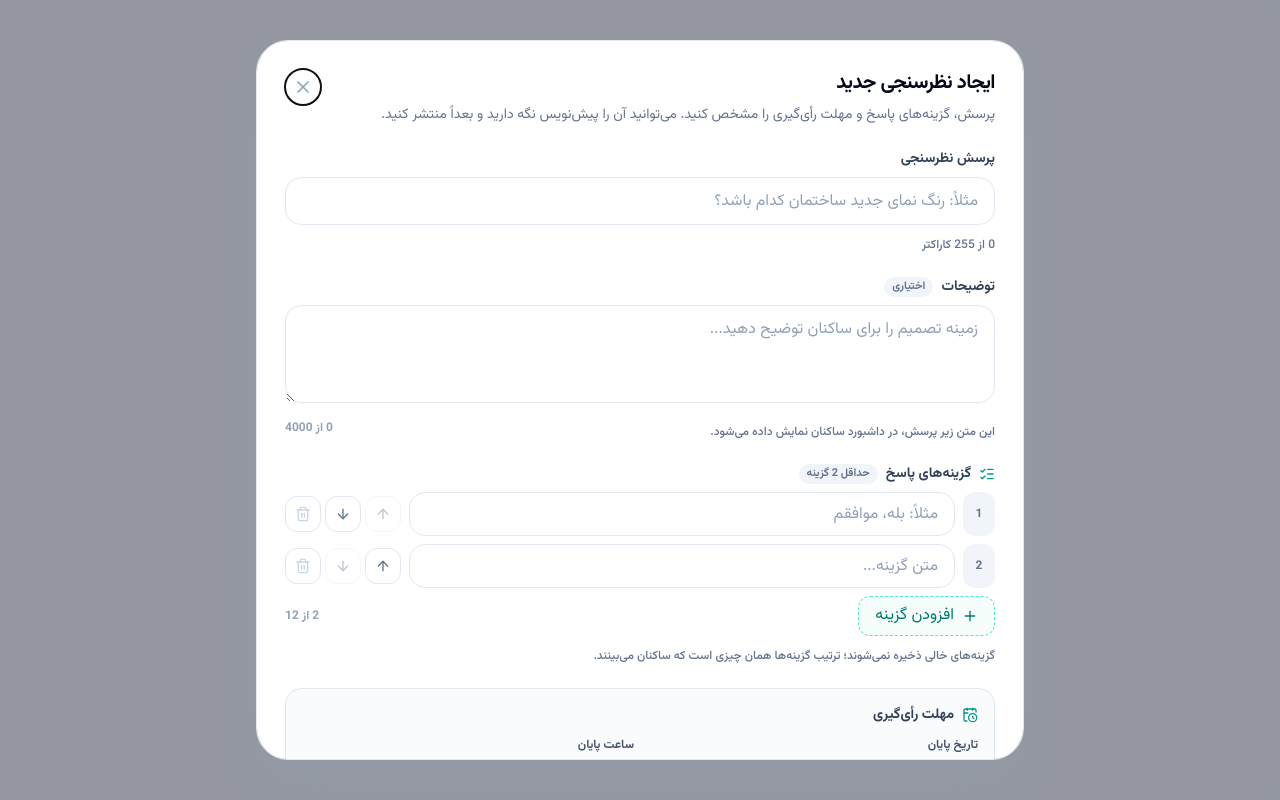
Test: PollFormModal › refuses two options with the same text
Type "آیا با بازسازی لابی موافقید؟" into the field labelled "پرسش نظرسنجی 0 از 255 کاراکتر".
click(640, 201); type("آیا با بازسازی لابی موافقید؟")  # box [285,177,995,225]
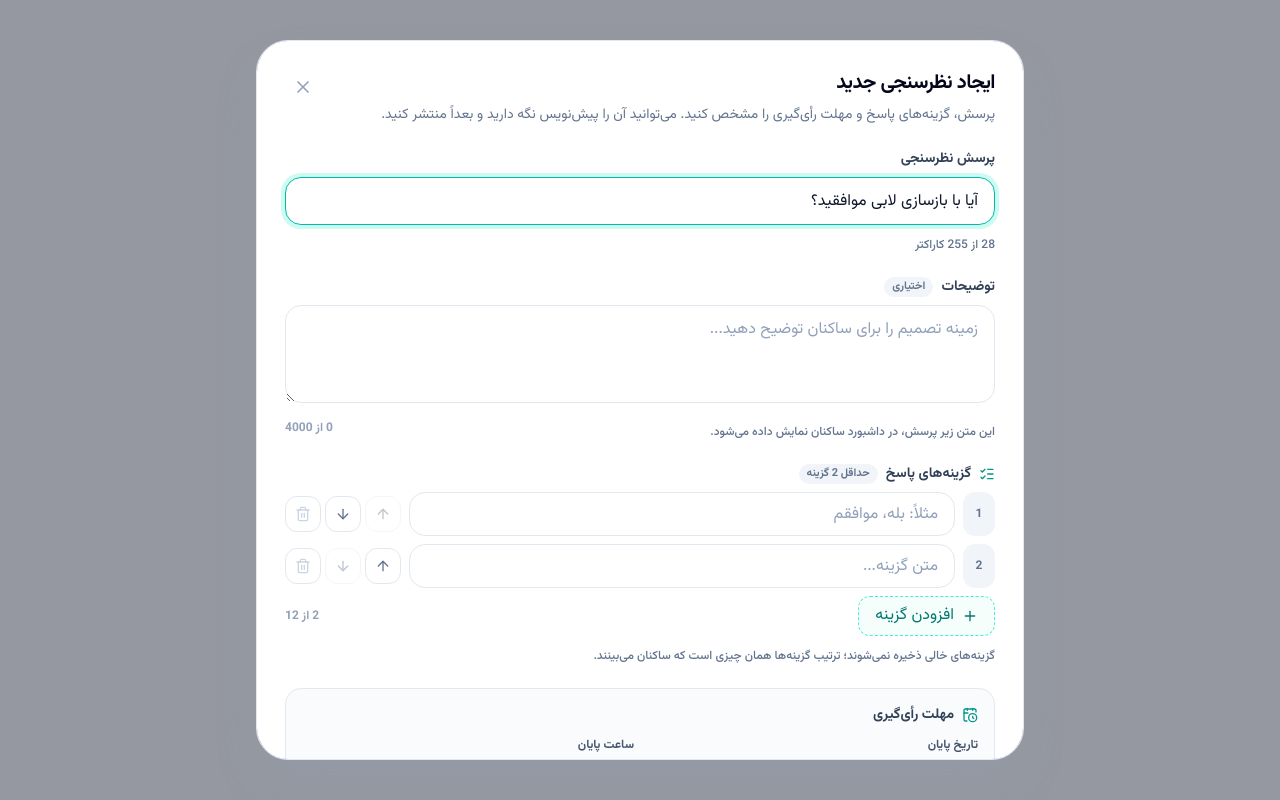
Type "بله" into the field named "گزینه 1".
click(682, 514); type("بله")  # box [409,492,955,536]
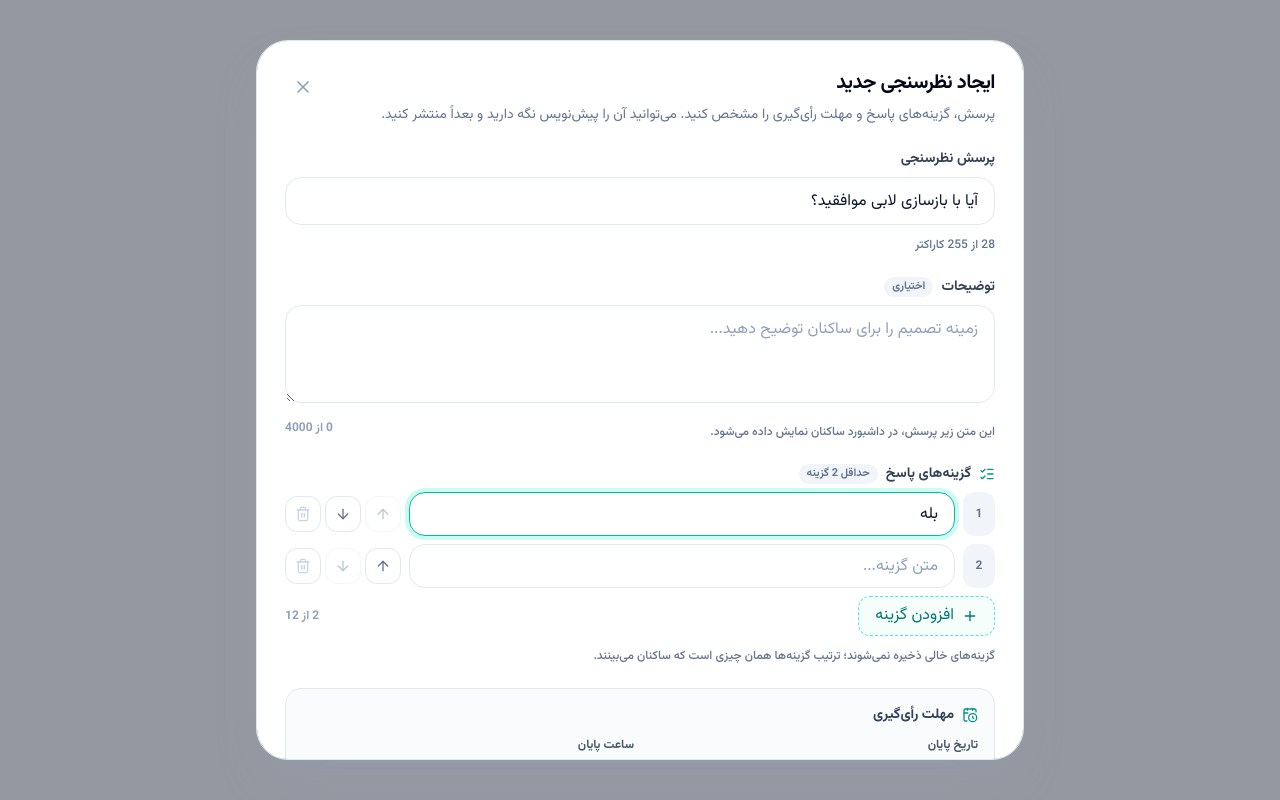
Type "بله" into the field named "گزینه 2".
click(682, 566); type("بله")  # box [409,544,955,588]
(page scrolled)
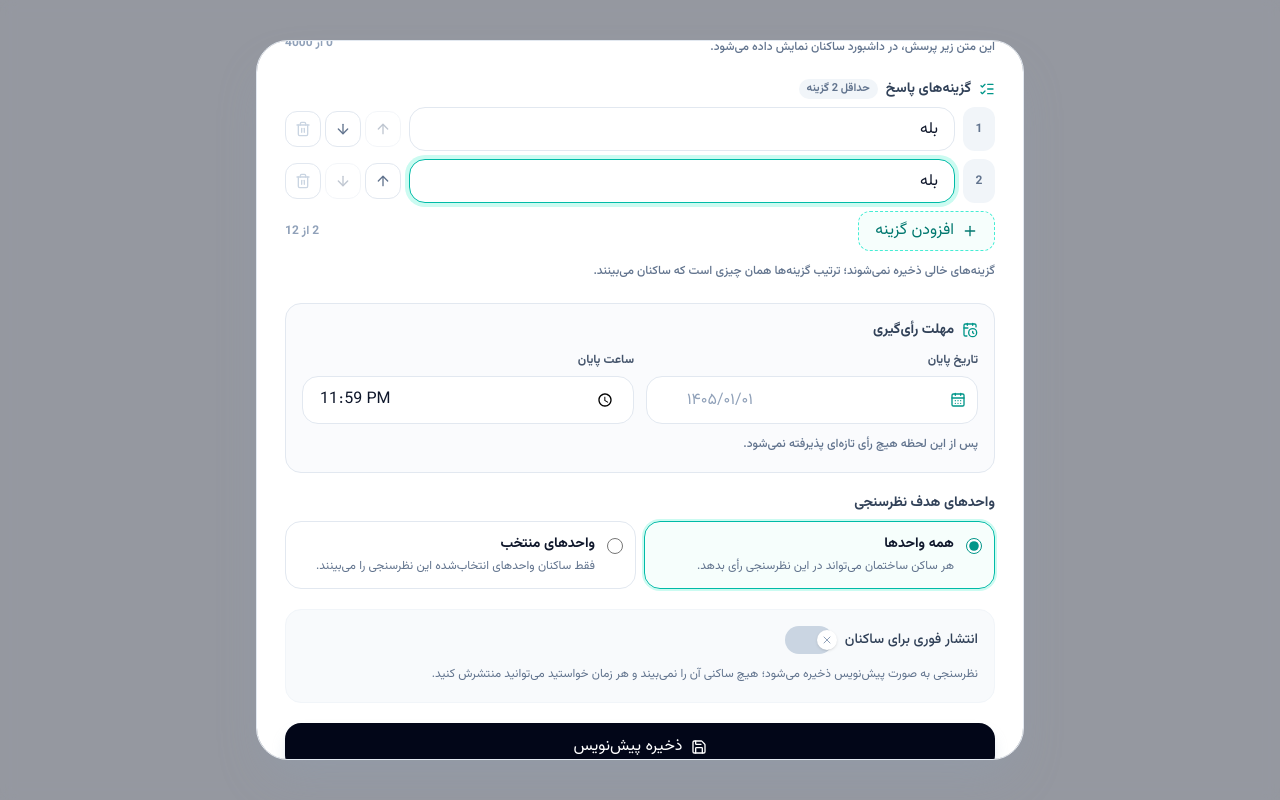
Type "1405/06/05" into the field labelled "تاریخ پایان".
click(812, 400); type("1405/06/05")  # box [646,376,978,424]
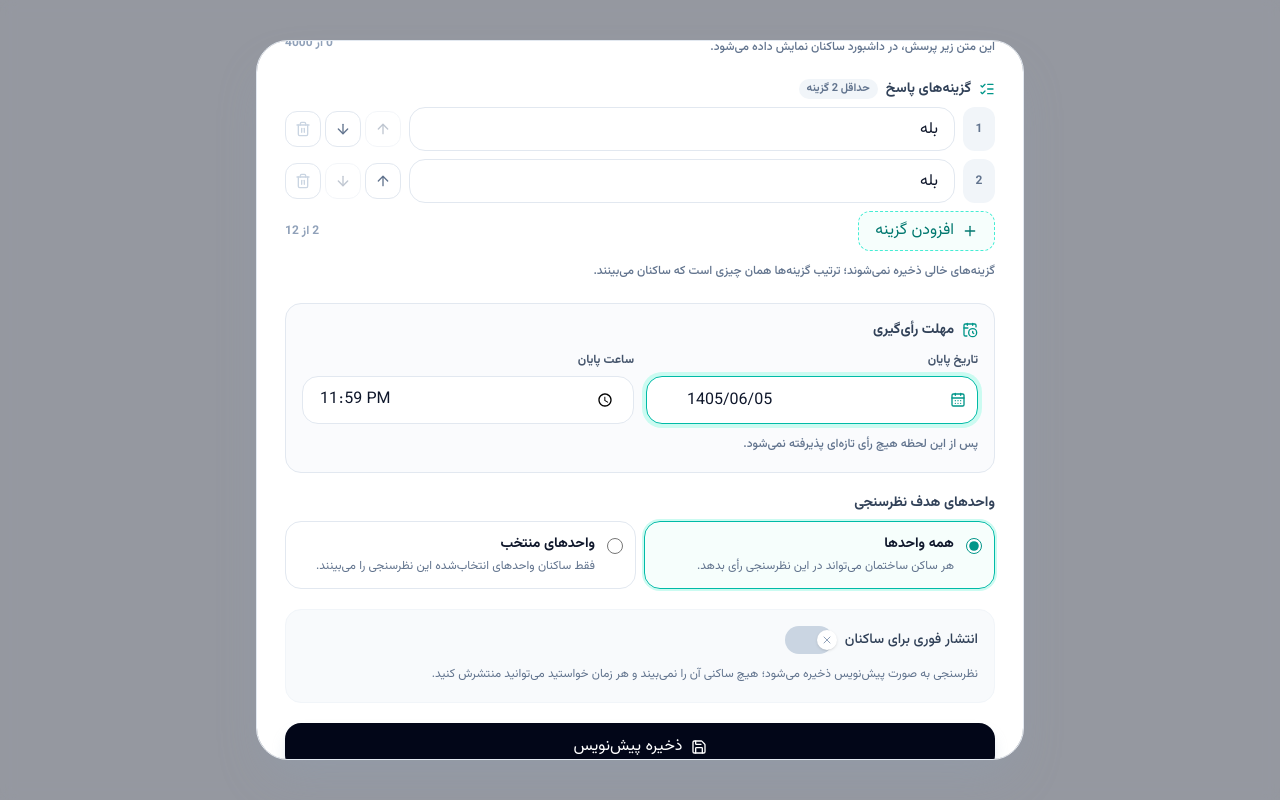
Click the button "ذخیره پیش‌نویس".
click(640, 747)  # box [285,723,995,771]
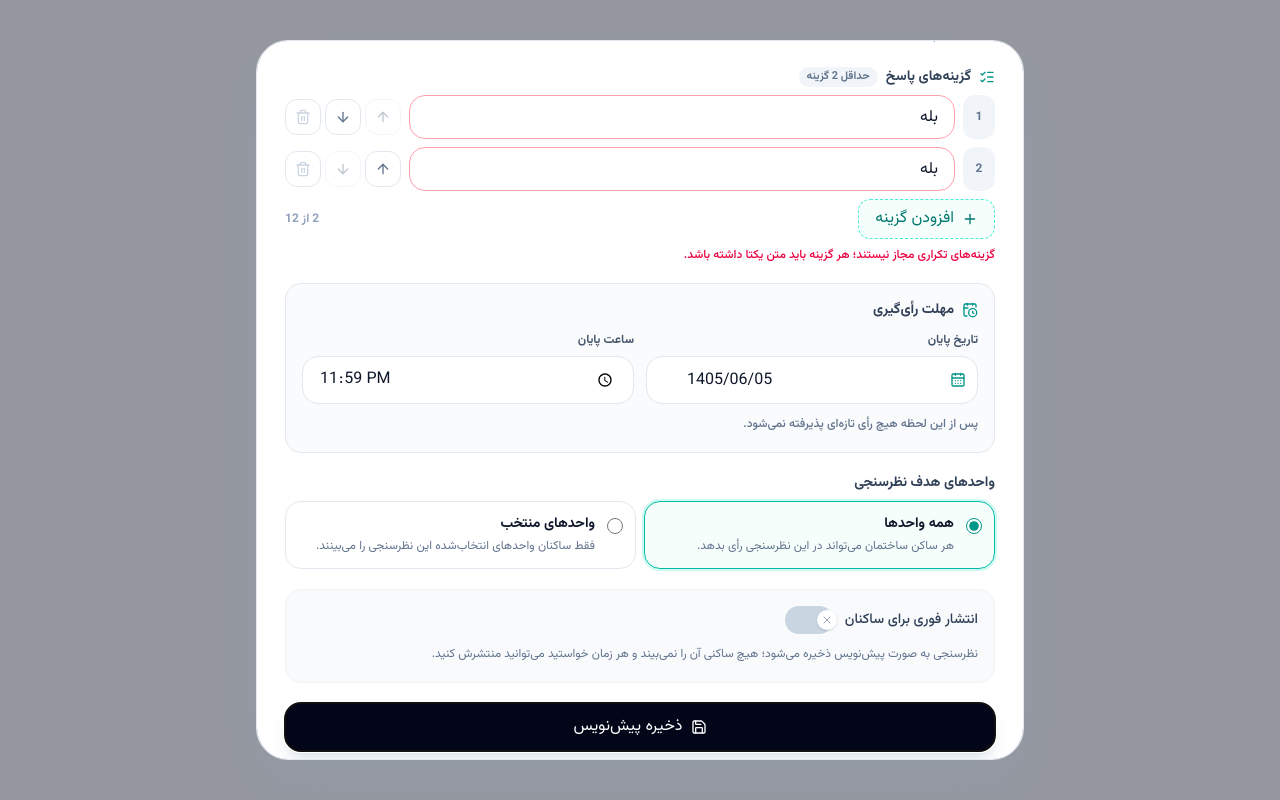
expect the text "گزینه‌های تکراری مجاز نیستند؛ هر گزینه باید متن یکتا داشته باشد." is shown: met, box [684,246,995,264]
